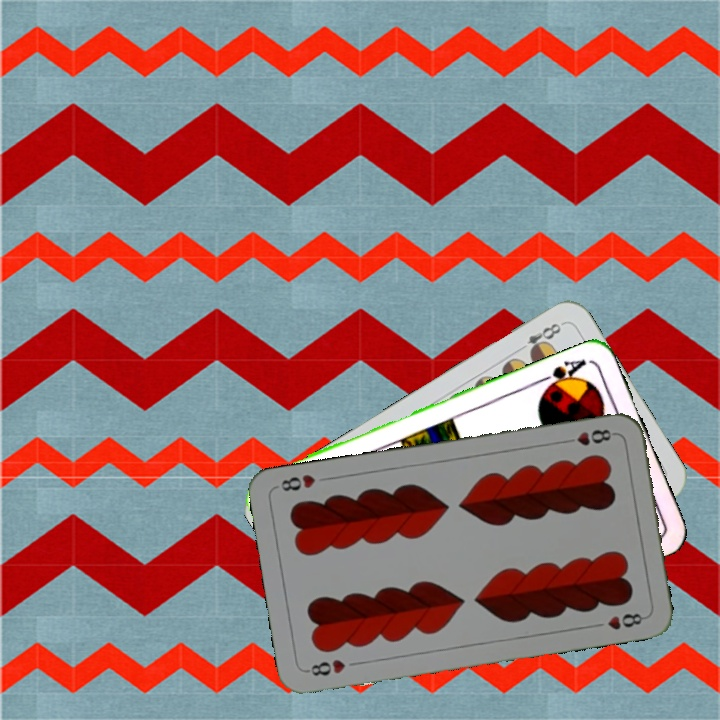E8: (513, 318, 566, 358)
H8: (559, 425, 618, 448), (302, 655, 348, 679)
SA: (535, 354, 589, 395)
